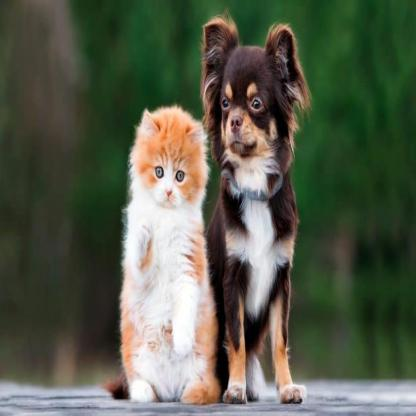cat: (199, 6, 316, 209), (119, 93, 208, 242)
